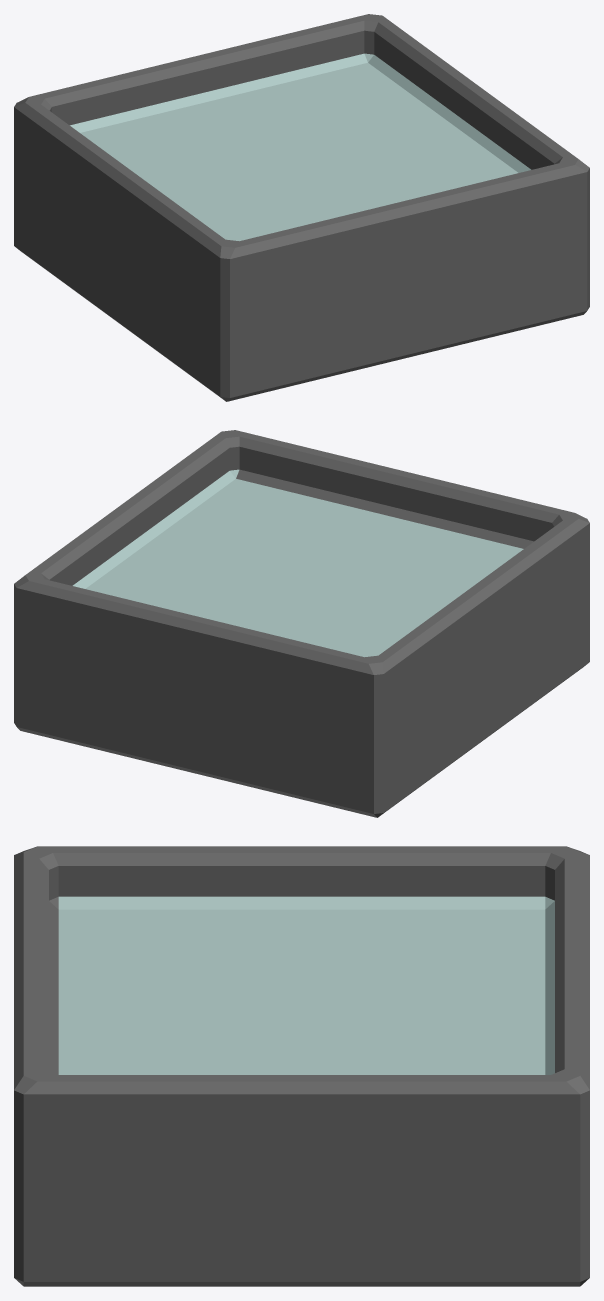
File: Panel.fbx
3 views of the same model, one above another, from view 1: azimuth 30°, elevation 25°; view 2: azimuth 150°, elevation 25°; view 3: azimuth 270°, elevation 25° (orthographic). The views are drawn at different scales.
Visible parts, largest first — view 1: Path.030; view 2: Path.030; view 3: Path.030.
Boxes of the visible parts, left/top/right/bottom form: Path.030: left=14, top=14, right=589, bottom=401; Path.030: left=14, top=430, right=589, bottom=817; Path.030: left=14, top=846, right=589, bottom=1286.
Size of the model in its own units: 296 by 116 by 296.
